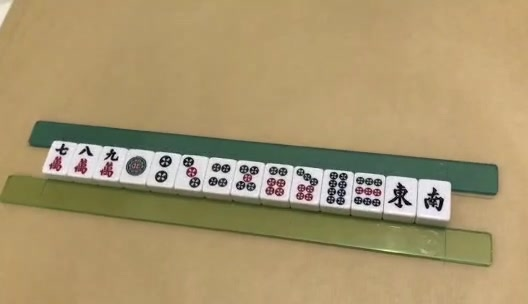1p: (126, 157, 147, 177)
1z: (387, 183, 413, 210)
2p: (154, 156, 172, 181)
2z: (422, 187, 443, 211)
3p: (183, 156, 202, 189)
4p: (210, 164, 230, 188)
5p: (236, 166, 260, 192)
6p: (266, 165, 286, 196)
7m: (48, 144, 68, 173)
7p: (296, 168, 318, 203)
8m: (73, 146, 93, 173)
8p: (327, 171, 346, 204)
9m: (101, 149, 118, 178)
9p: (353, 176, 382, 207)
